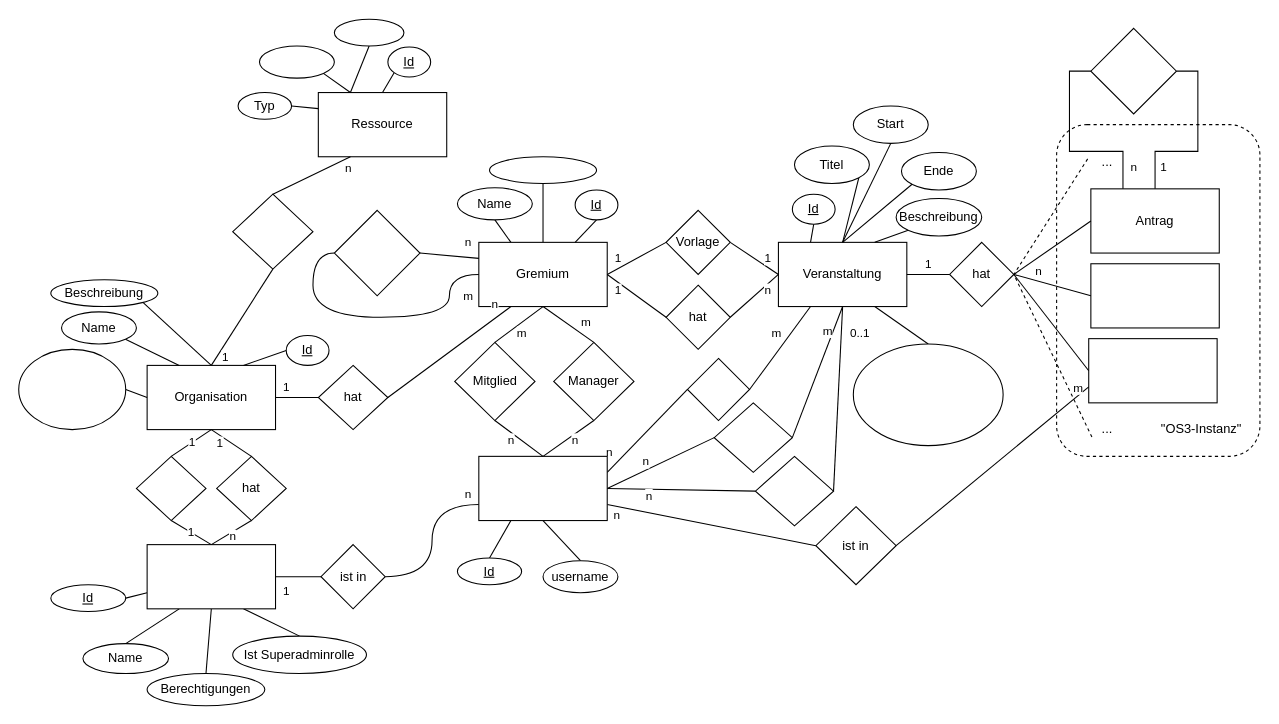
This 1279x724 diagram has some shape labels left out. Each missing label, with the centre of its shape:
"anwesend" belongs at (x=752, y=437).
"Gast" belongs at (x=718, y=389).
"Gruppe" belongs at (x=1152, y=370).
"Größe" belongs at (x=296, y=61).
"Herkunft" belongs at (x=1133, y=70).
"Kategorie" belongs at (x=1154, y=295).
"legal_notice privacy_policy login_text theme" belongs at (x=72, y=389).
"motions_* assignment_* users_ordering users_precence_view allow_anonymous ..." belongs at (x=927, y=394).
"Nutzer" belongs at (x=542, y=488).
"OS3 configs" belongs at (x=542, y=170).
"Rolle" belongs at (x=211, y=576).
"superadmin" belongs at (x=170, y=488).
"temporär" belongs at (x=794, y=490).
"Token" belongs at (x=368, y=32).
"weiterleiten" belongs at (x=376, y=252).
"zugeordnet" belongs at (x=272, y=231).
